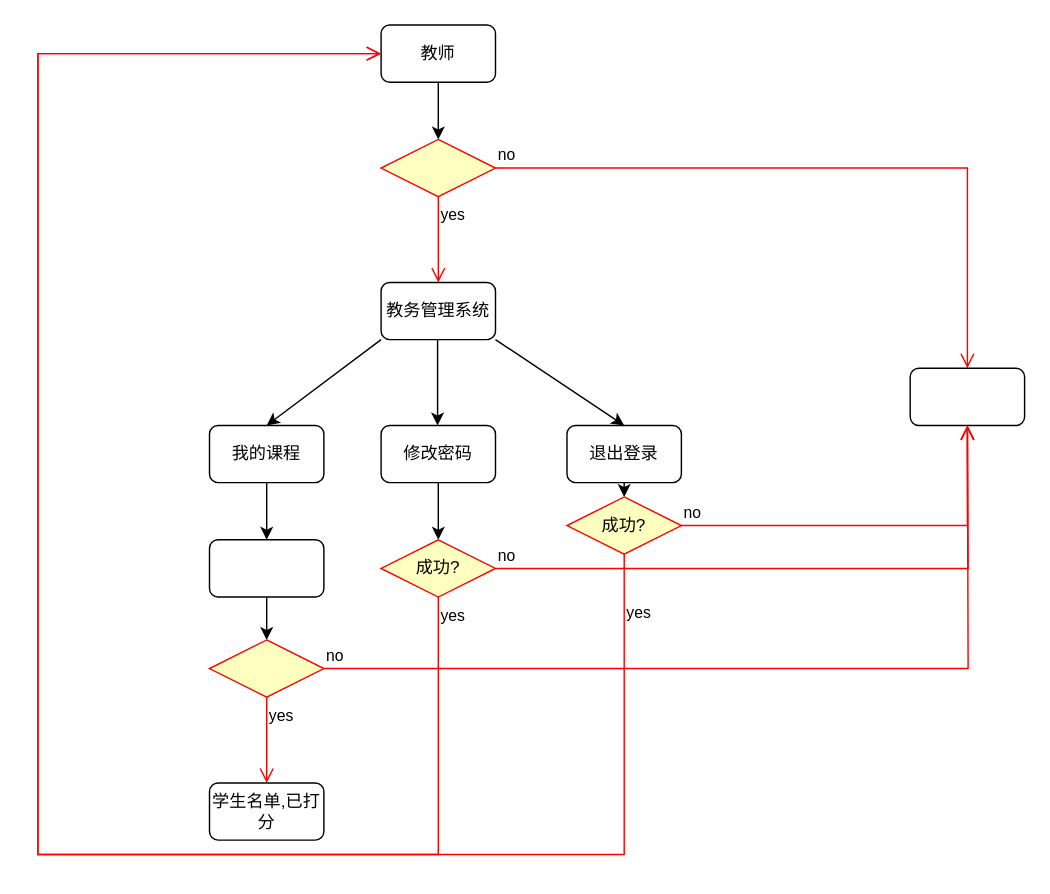
Image size: 1050x894. Some labels were removed from this diagram. The centre of each missing label's shape, as x and y in pixels:
成绩: the point at 266,567
打分?: the point at 266,667
登录成功?: the point at 437,167
错误信息: the point at 967,396
